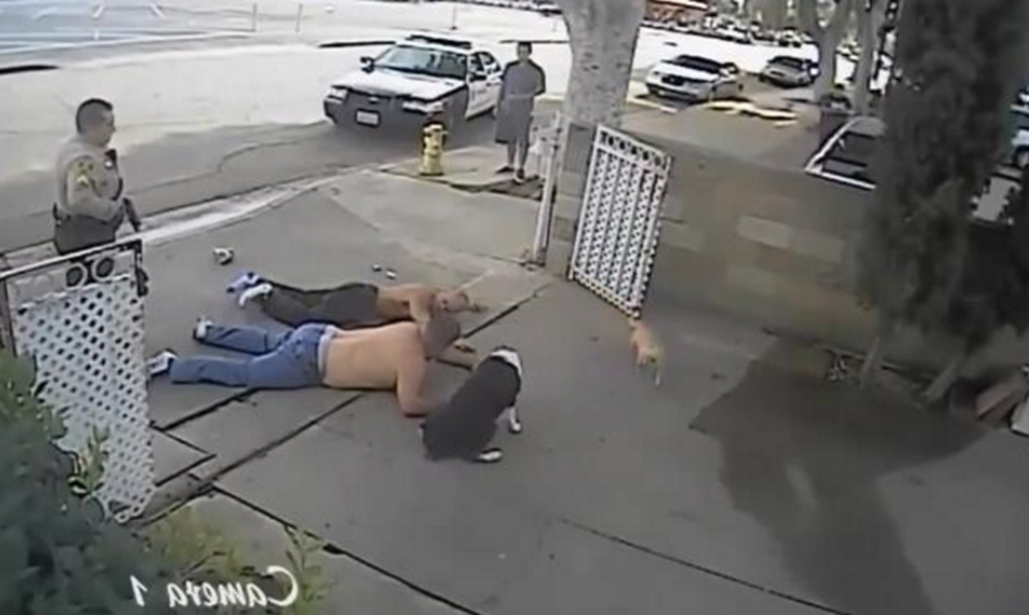fall: (207, 255, 474, 341)
